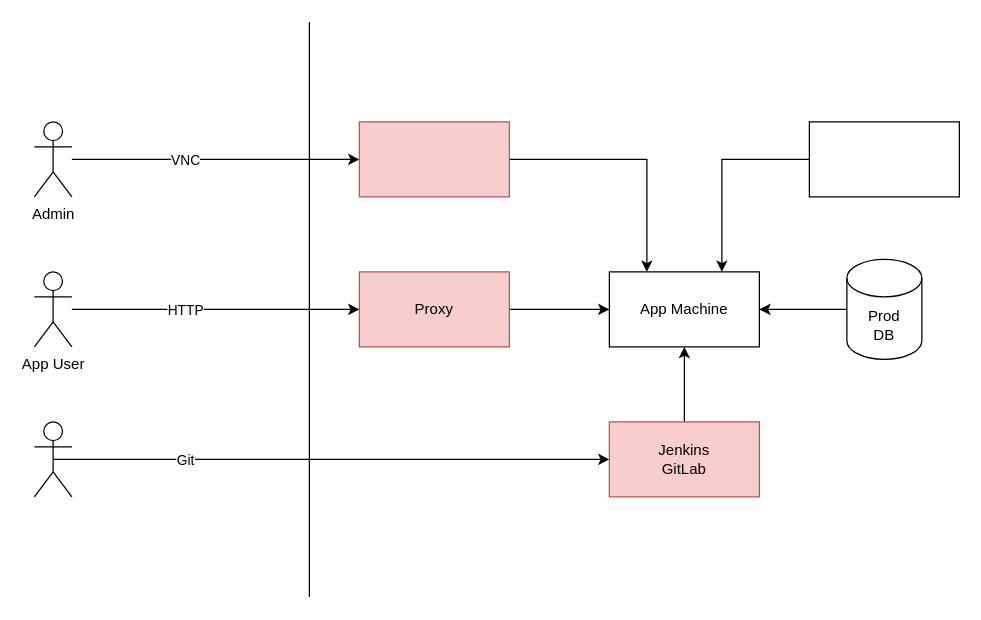
This 981x620 diagram has some shape labels left out. Here are the shapes that lost their labels. From the top down, the centre of each, then its label:
At (433,159): "VNC Server".
At (883,159): "OS Repository".
At (52,459): "Dev".
